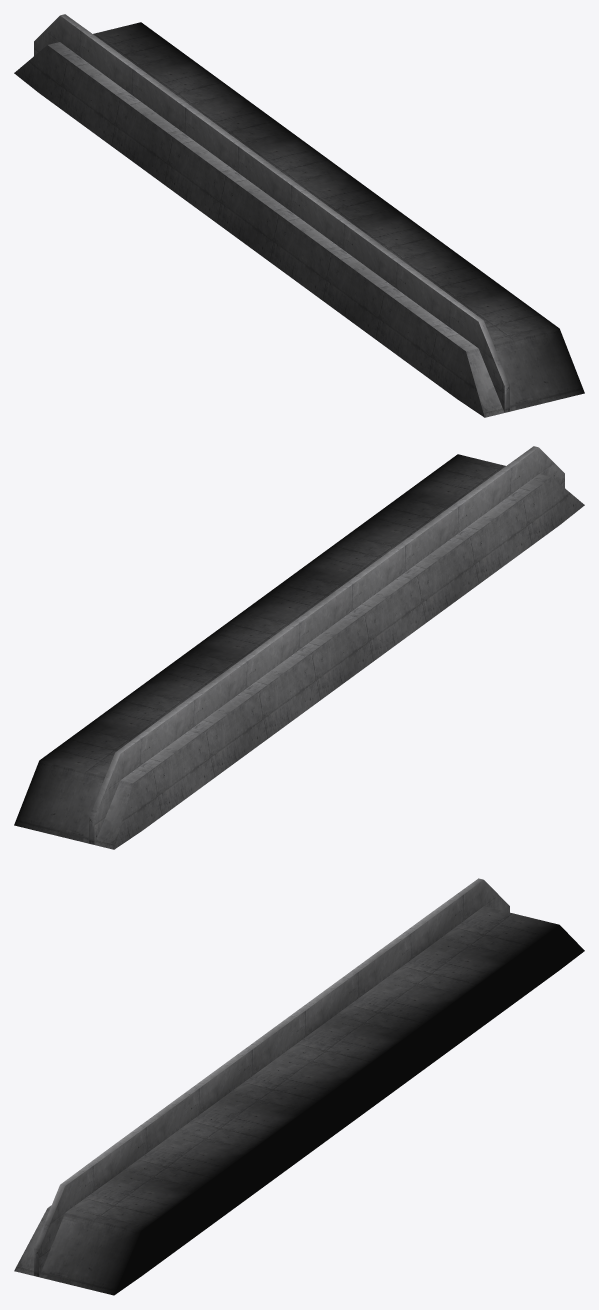
Rendered from KH_LEFT_AMB_100.glb.
The picture shows the model from 3 angles, top to bottom: view 1: azimuth 30°, elevation 25°; view 2: azimuth 150°, elevation 25°; view 3: azimuth 330°, elevation 25°; orthographic projection.
Visible parts, largest first — view 1: Left_Rord; view 2: Left_Rord; view 3: Left_Rord.
Boxes of the visible parts, x1=… form: Left_Rord: x1=14, y1=14, x2=584, y2=417; Left_Rord: x1=14, y1=446, x2=584, y2=849; Left_Rord: x1=14, y1=878, x2=584, y2=1295.
Bounding box in the file's own units: 14.16 × 9.5 × 112.
1 material, 1 textured.
